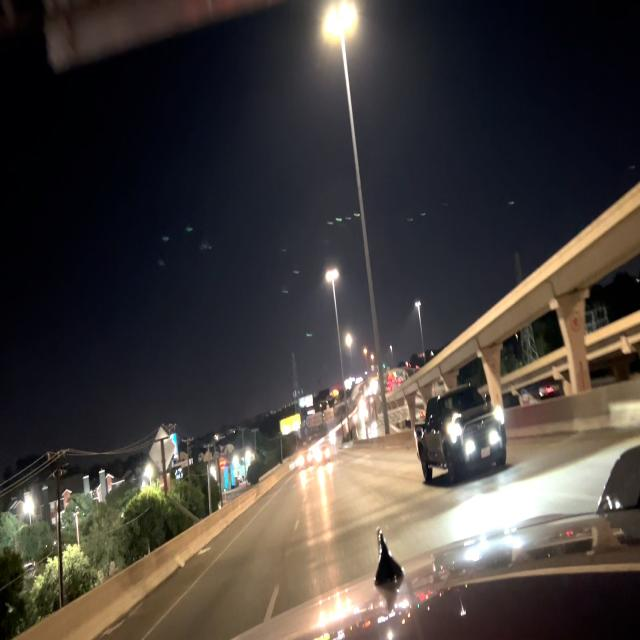back-of-sign: (149, 426, 174, 477), (306, 408, 336, 428)
